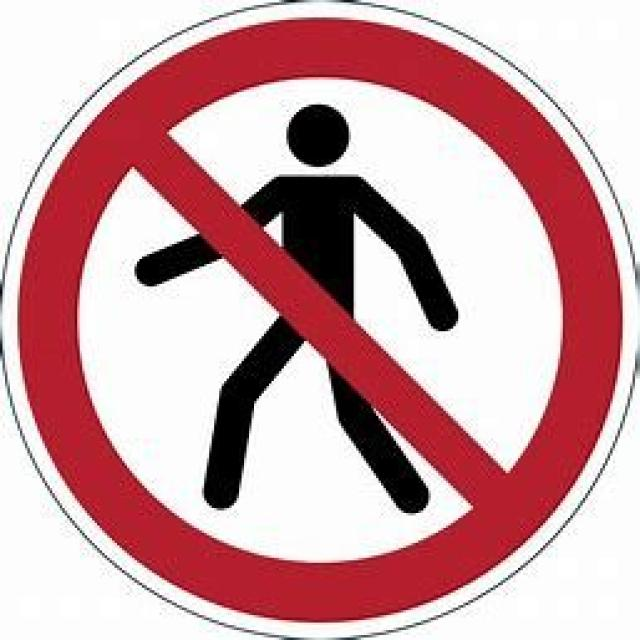Priority road: (0, 0, 638, 638)
